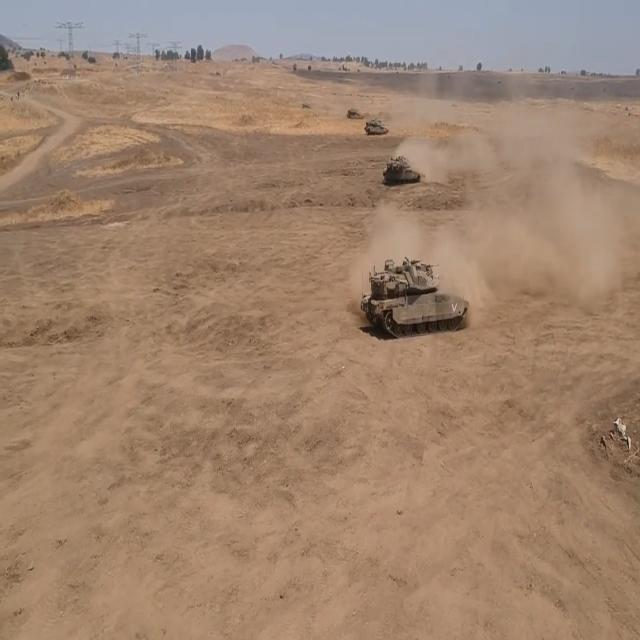tank: (360, 255, 485, 348), (382, 146, 430, 196), (359, 116, 393, 136), (347, 106, 362, 122)
